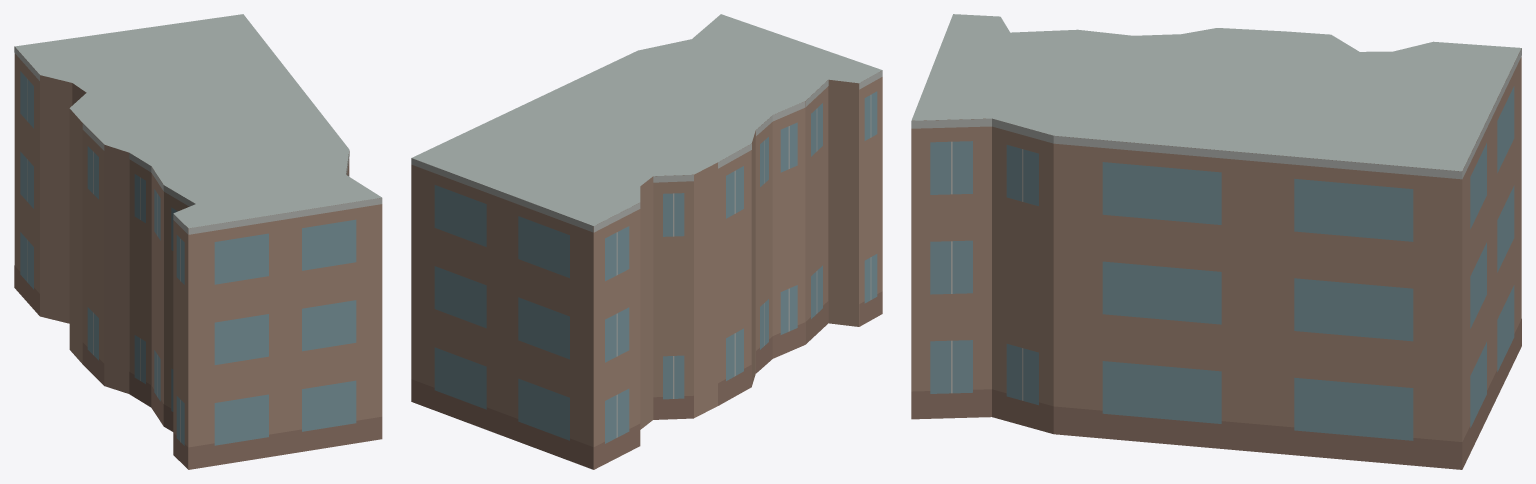
File: survey-upis-32544054.glb
3 views of the same model, side by side, from view 1: azimuth 30°, elevation 25°; view 2: azimuth 150°, elevation 25°; view 3: azimuth 270°, elevation 25° (orthographic). The views are drawn at different scales.
Visible parts, largest first — view 1: survey-upis-32544054.tmp; view 2: survey-upis-32544054.tmp; view 3: survey-upis-32544054.tmp.
Boxes of the visible parts, bbox=[...] form: survey-upis-32544054.tmp: bbox=[14, 14, 382, 469]; survey-upis-32544054.tmp: bbox=[411, 14, 882, 469]; survey-upis-32544054.tmp: bbox=[911, 14, 1521, 469].
Bounding box in the file's own units: 10.36 × 9.15 × 16.97.
